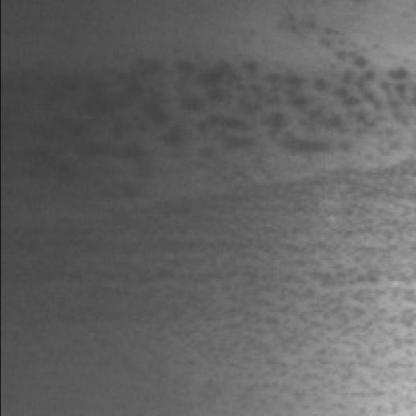pitted_surface: (4, 175, 404, 389), (2, 42, 406, 189)
